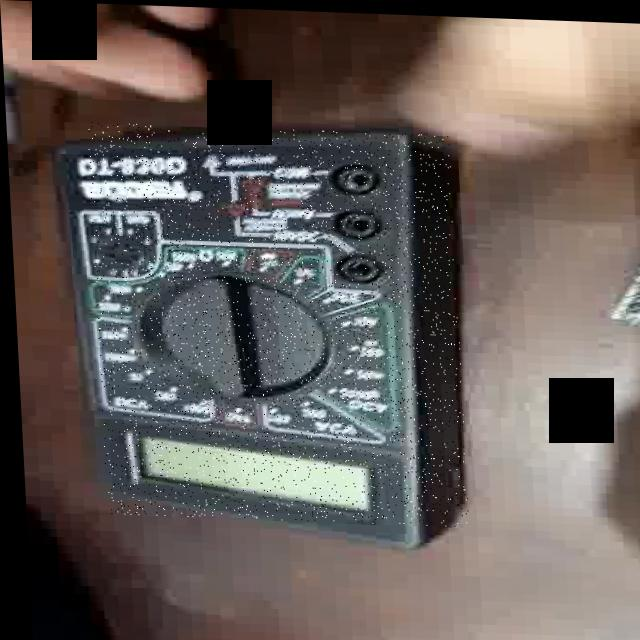multimeter: (86, 121, 464, 524)
